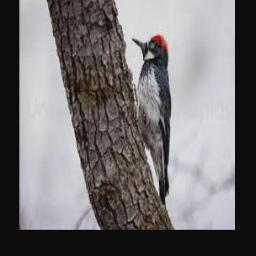Woodpecker: (131, 34, 171, 207)
